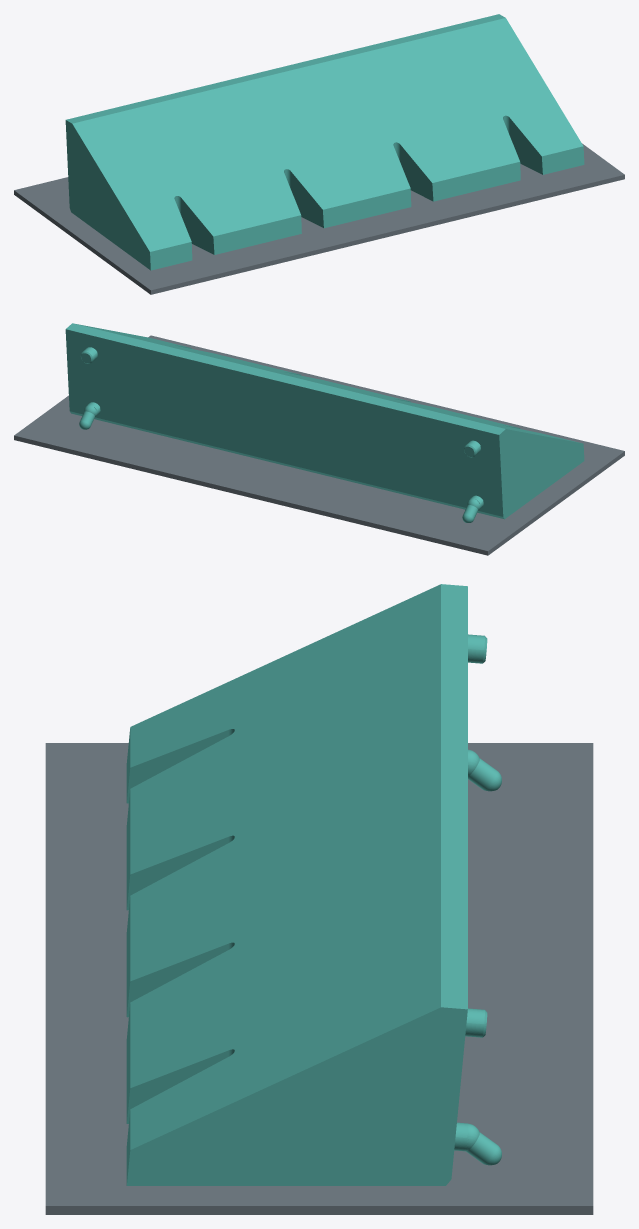
File: part-bd01-slope-e__v4__print-sloped-top.glb
3 views of the same model, one above another, from view 1: azimuth 30°, elevation 25°; view 2: azimuth 150°, elevation 25°; view 3: azimuth 270°, elevation 25° (orthographic). The views are drawn at different scales.
Visible parts, largest first — view 1: Actual holder mesh, Print bed; view 2: Actual holder mesh, Print bed; view 3: Actual holder mesh, Print bed.
Boxes of the visible parts, x1=… form: Actual holder mesh: x1=65, y1=14, x2=584, y2=270; Print bed: x1=14, y1=143, x2=624, y2=294; Actual holder mesh: x1=65, y1=323, x2=584, y2=522; Print bed: x1=14, y1=335, x2=624, y2=555; Actual holder mesh: x1=126, y1=584, x2=501, y2=1185; Print bed: x1=45, y1=743, x2=593, y2=1214.
Size of the model in its own units: 0.22 by 0.0416 by 0.11.
